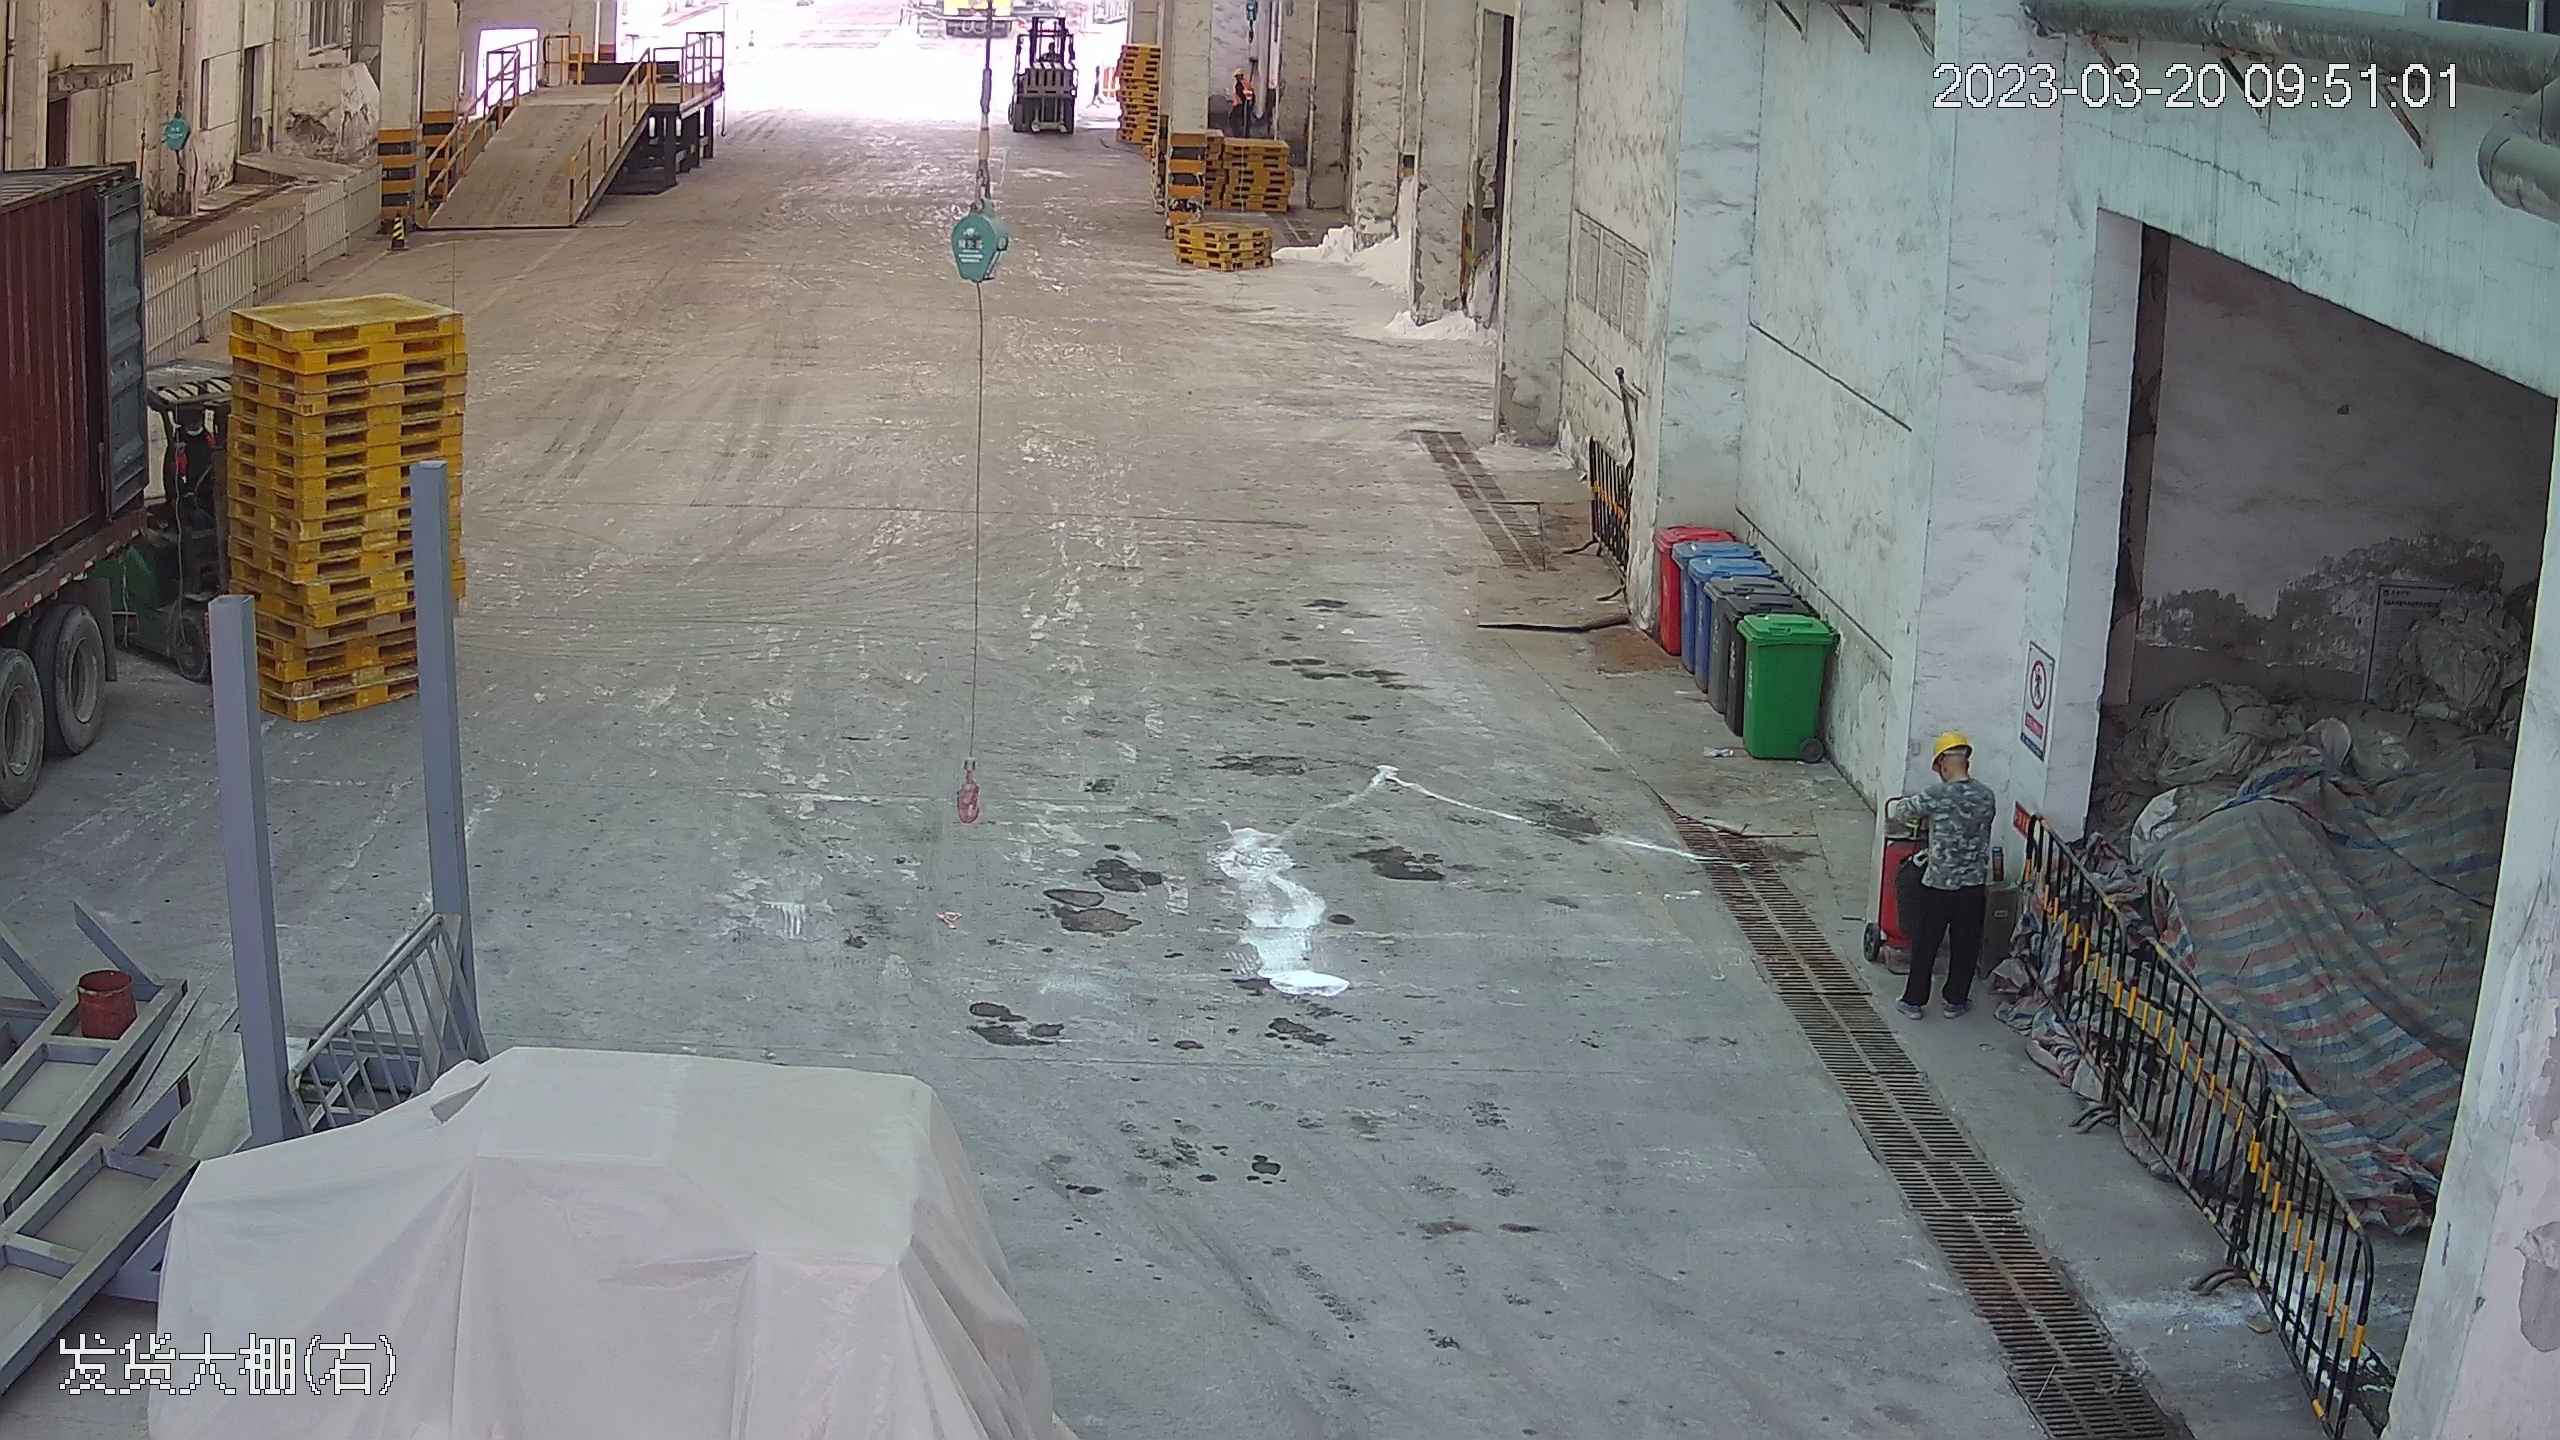head: (1919, 730, 1995, 821), (1232, 66, 1253, 97)
helmet: (1930, 730, 1973, 763), (1230, 66, 1246, 77)
people: (1901, 726, 2001, 1015), (1228, 62, 1255, 143)
truck: (1, 8, 207, 899)
